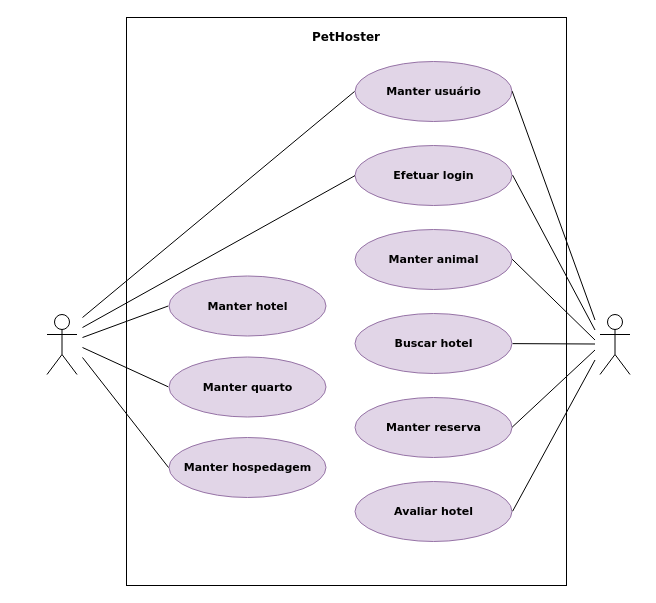
Image size: 656x603. Some labels were removed from this diagram. The shapes that lost their labels are listed below. From the top down, each one's centre as x and y in pixels, then its label:
At (x=61, y=344): "Administrador".
At (x=614, y=344): "Usuário".
